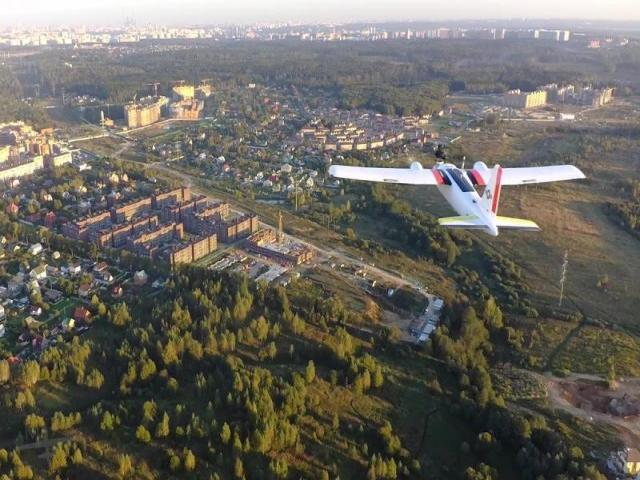hedef: (318, 144, 604, 242)
